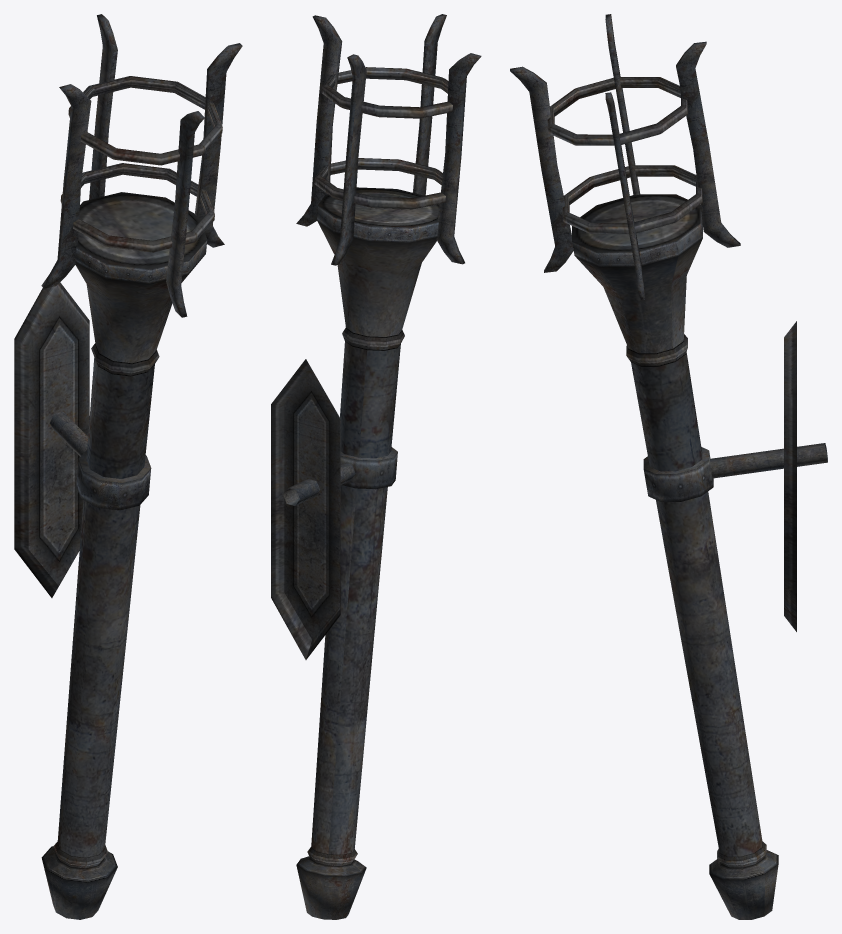
Rendered from torch.fbx.
The picture shows the model from 3 angles, left to right: view 1: azimuth 30°, elevation 25°; view 2: azimuth 150°, elevation 25°; view 3: azimuth 270°, elevation 25°; orthographic projection. The views are drawn at different scales.
Visible parts, largest first — view 1: polySurface1600; view 2: polySurface1600; view 3: polySurface1600.
Boxes of the visible parts, x1,y1,x2,y2 form: polySurface1600: (14, 14, 242, 919); polySurface1600: (271, 14, 481, 919); polySurface1600: (510, 14, 827, 919).
Bounding box in the file's own units: 0.2319 × 1.12 × 0.3707.
